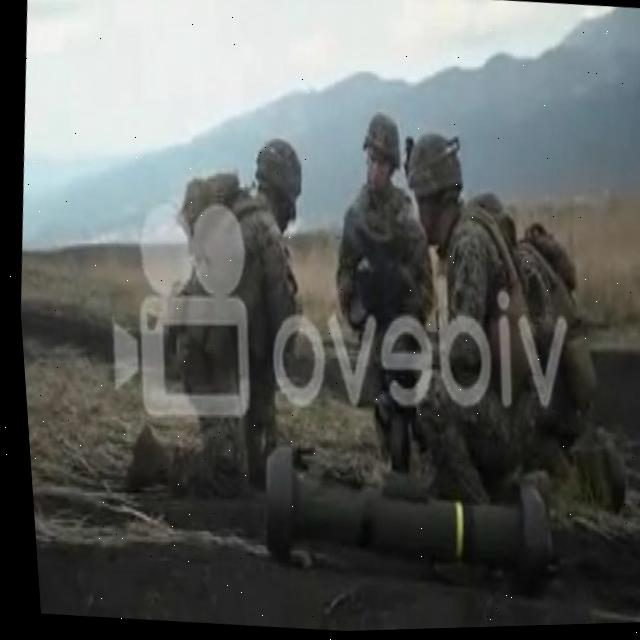rocket: (245, 423, 552, 620)
